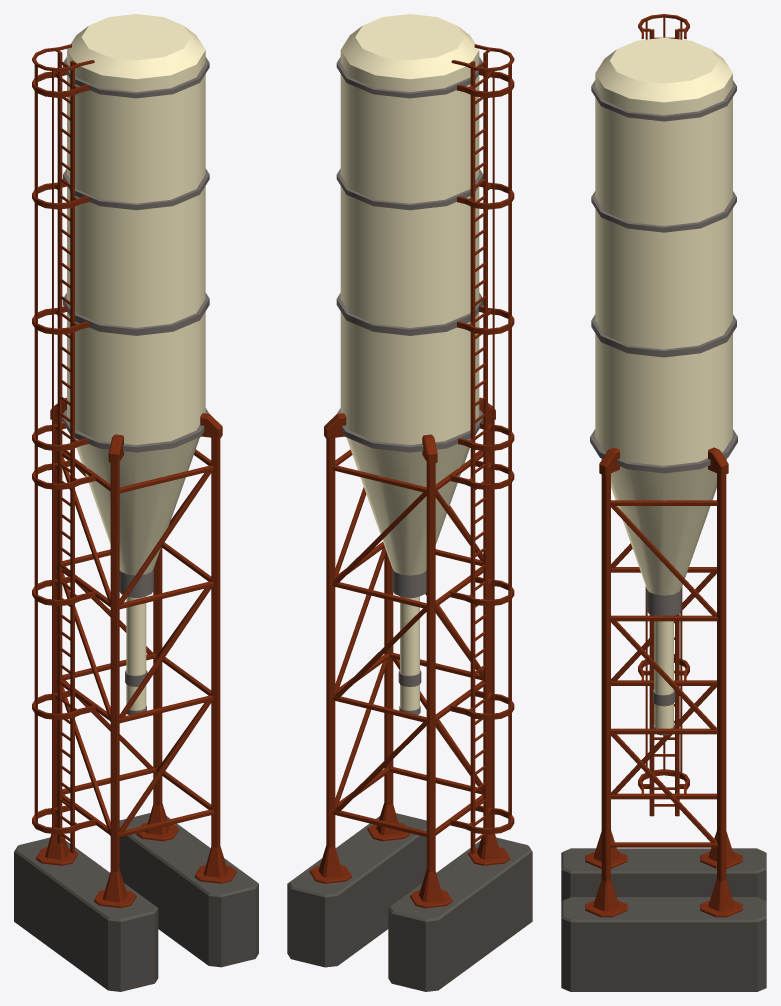
The model's file is watchtower.glb.
3 views of the same model, side by side, from view 1: azimuth 30°, elevation 25°; view 2: azimuth 150°, elevation 25°; view 3: azimuth 270°, elevation 25° (orthographic).
Visible parts, largest first — view 1: farmstractures_24.001; view 2: farmstractures_24.001; view 3: farmstractures_24.001.
Boxes of the visible parts, x1=… form: farmstractures_24.001: x1=14, y1=14, x2=258, y2=991; farmstractures_24.001: x1=287, y1=14, x2=532, y2=991; farmstractures_24.001: x1=561, y1=14, x2=766, y2=991.
Bounding box in the file's own units: 2.93 × 14.32 × 2.98.
